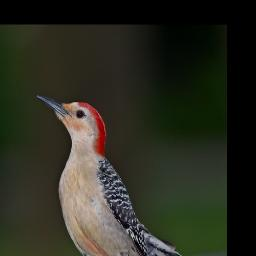Woodpecker: (32, 91, 216, 256)
